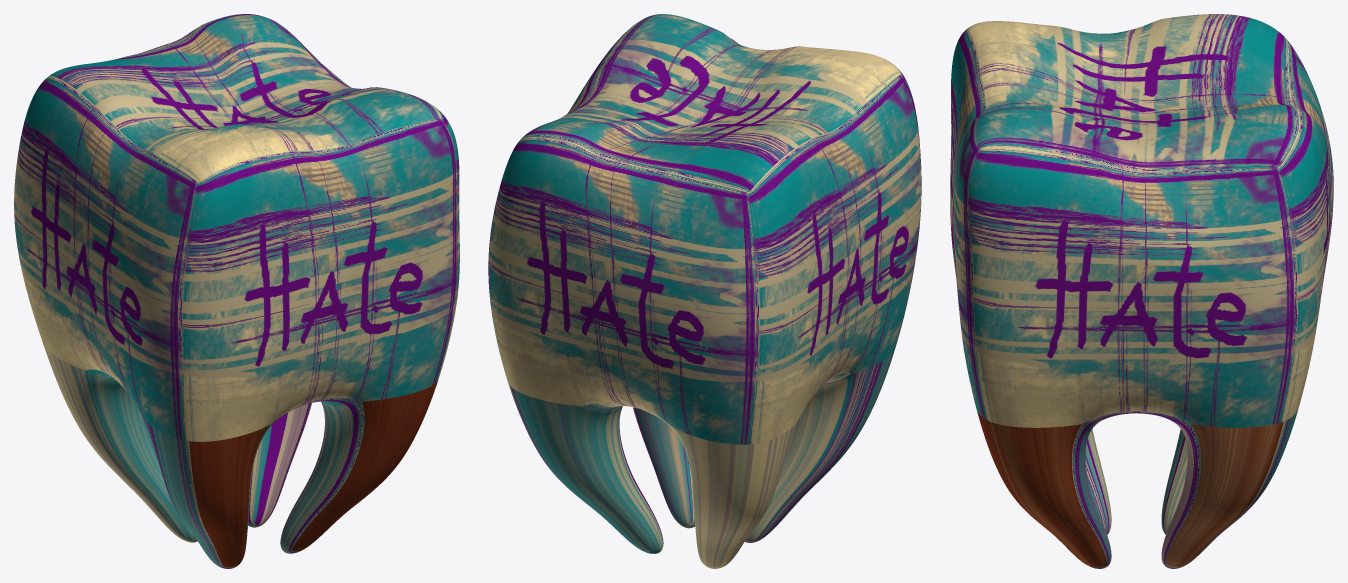
The model's file is teeth.glb.
3 renders of one model, left to right at view 1: azimuth 30°, elevation 25°; view 2: azimuth 150°, elevation 25°; view 3: azimuth 270°, elevation 25°, orthographic. The views are drawn at different scales.
Parts seen in each view (by area): view 1: Connect (×2); view 2: Connect; view 3: Connect (×3).
Boxes of the visible parts, left/top/right/bottom form: Connect (×2): left=14, top=14, right=459, bottom=568; Connect: left=488, top=14, right=921, bottom=568; Connect (×3): left=950, top=14, right=1333, bottom=568.
Size of the model in its own units: 244 by 348 by 251.
3 materials, 3 textured.
